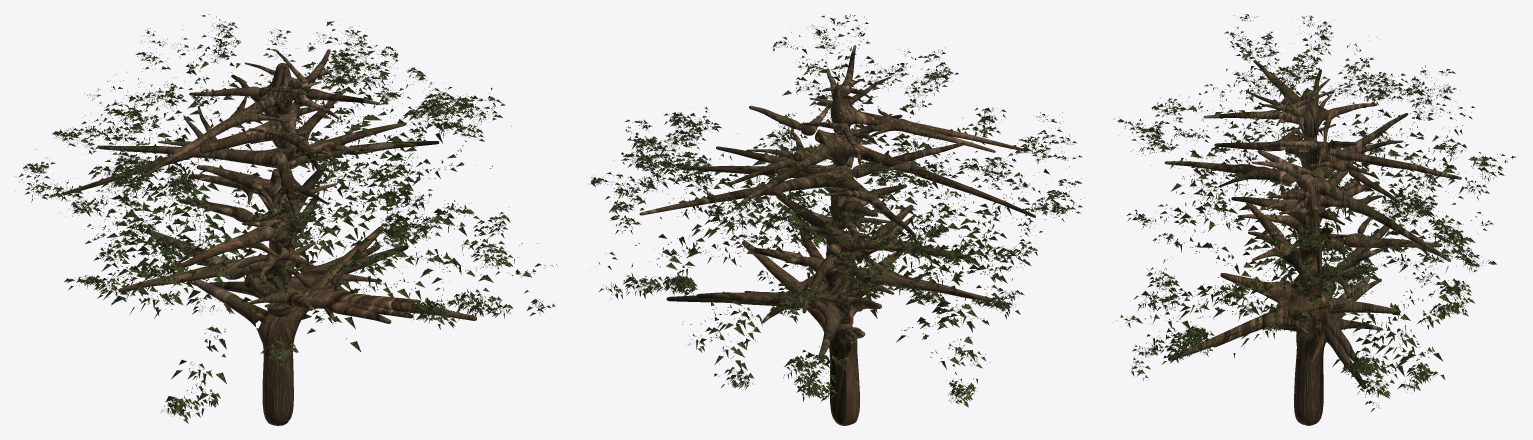
File: tree-jacaranda-lod2.glb
The picture shows the model from 3 angles, left to right: view 1: azimuth 30°, elevation 25°; view 2: azimuth 150°, elevation 25°; view 3: azimuth 270°, elevation 25°; orthographic projection. The views are drawn at different scales.
Visible parts, largest first — view 1: TREE_Leaves, TREE_Wood; view 2: TREE_Leaves, TREE_Wood; view 3: TREE_Leaves, TREE_Wood.
Part boxes in pixels (<box>): TREE_Leaves: <box>14,14,557,423</box>; TREE_Wood: <box>63,49,476,425</box>; TREE_Leaves: <box>590,14,1082,407</box>; TREE_Wood: <box>639,45,1035,425</box>; TREE_Leaves: <box>1113,14,1515,412</box>; TREE_Wood: <box>1164,60,1461,425</box>.
Bounding box in the file's own units: 10.64 × 8.44 × 8.21.
Materials: 2 (2 with a texture image).
